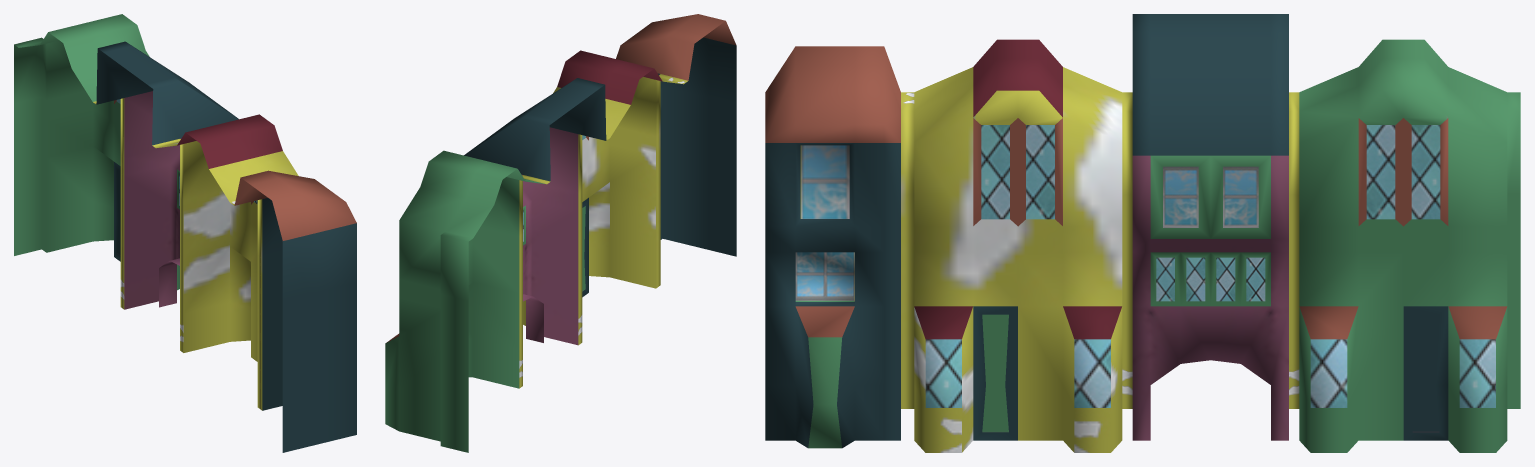
Rendered from 11-buildingsrow.fbx.
3 views of the same model, side by side, from view 1: azimuth 30°, elevation 25°; view 2: azimuth 150°, elevation 25°; view 3: azimuth 270°, elevation 25° (orthographic). The views are drawn at different scales.
Parts seen in each view (by area): view 1: 11-buldingsrow; view 2: 11-buldingsrow; view 3: 11-buldingsrow.
Boxes of the visible parts, left/top/right/bottom form: 11-buldingsrow: left=14, top=14, right=356, bottom=452; 11-buldingsrow: left=385, top=14, right=736, bottom=452; 11-buldingsrow: left=765, top=14, right=1520, bottom=452.
Bounding box in the file's own units: 505 × 1400 × 2546.
